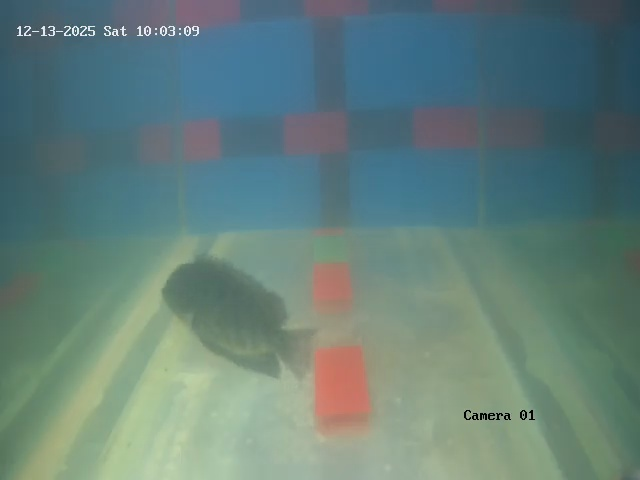fish: (162, 255, 289, 371)
